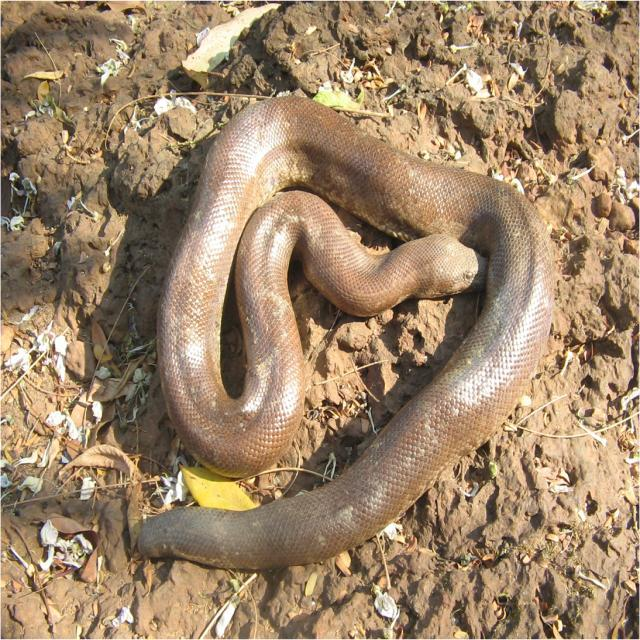Snake: (136, 90, 556, 572)
